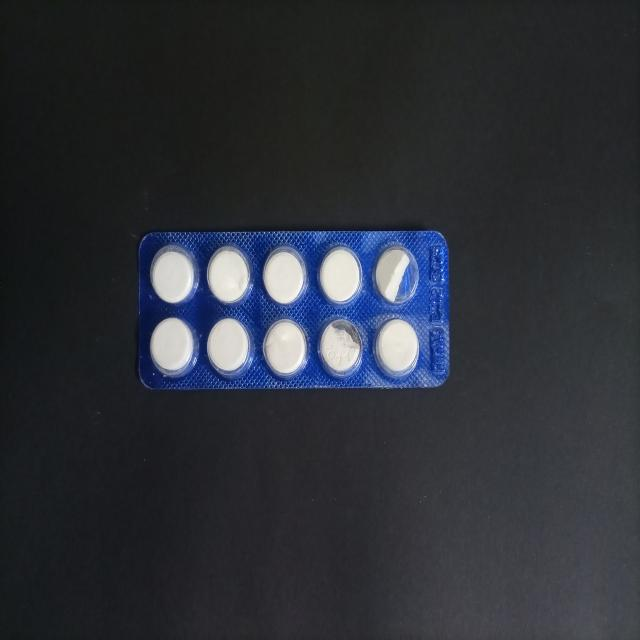defect: (314, 316, 366, 379), (370, 241, 421, 305)
